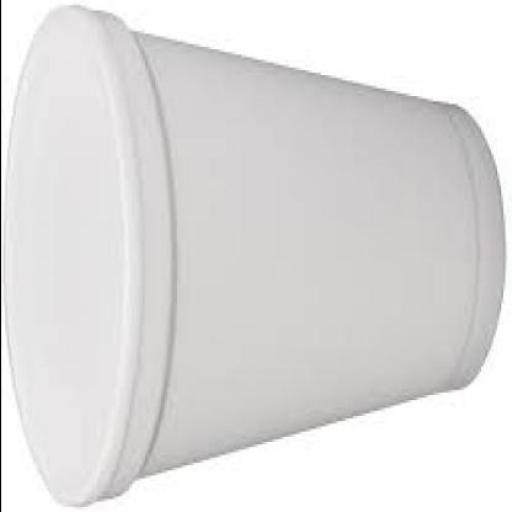paper: (0, 10, 498, 509)
